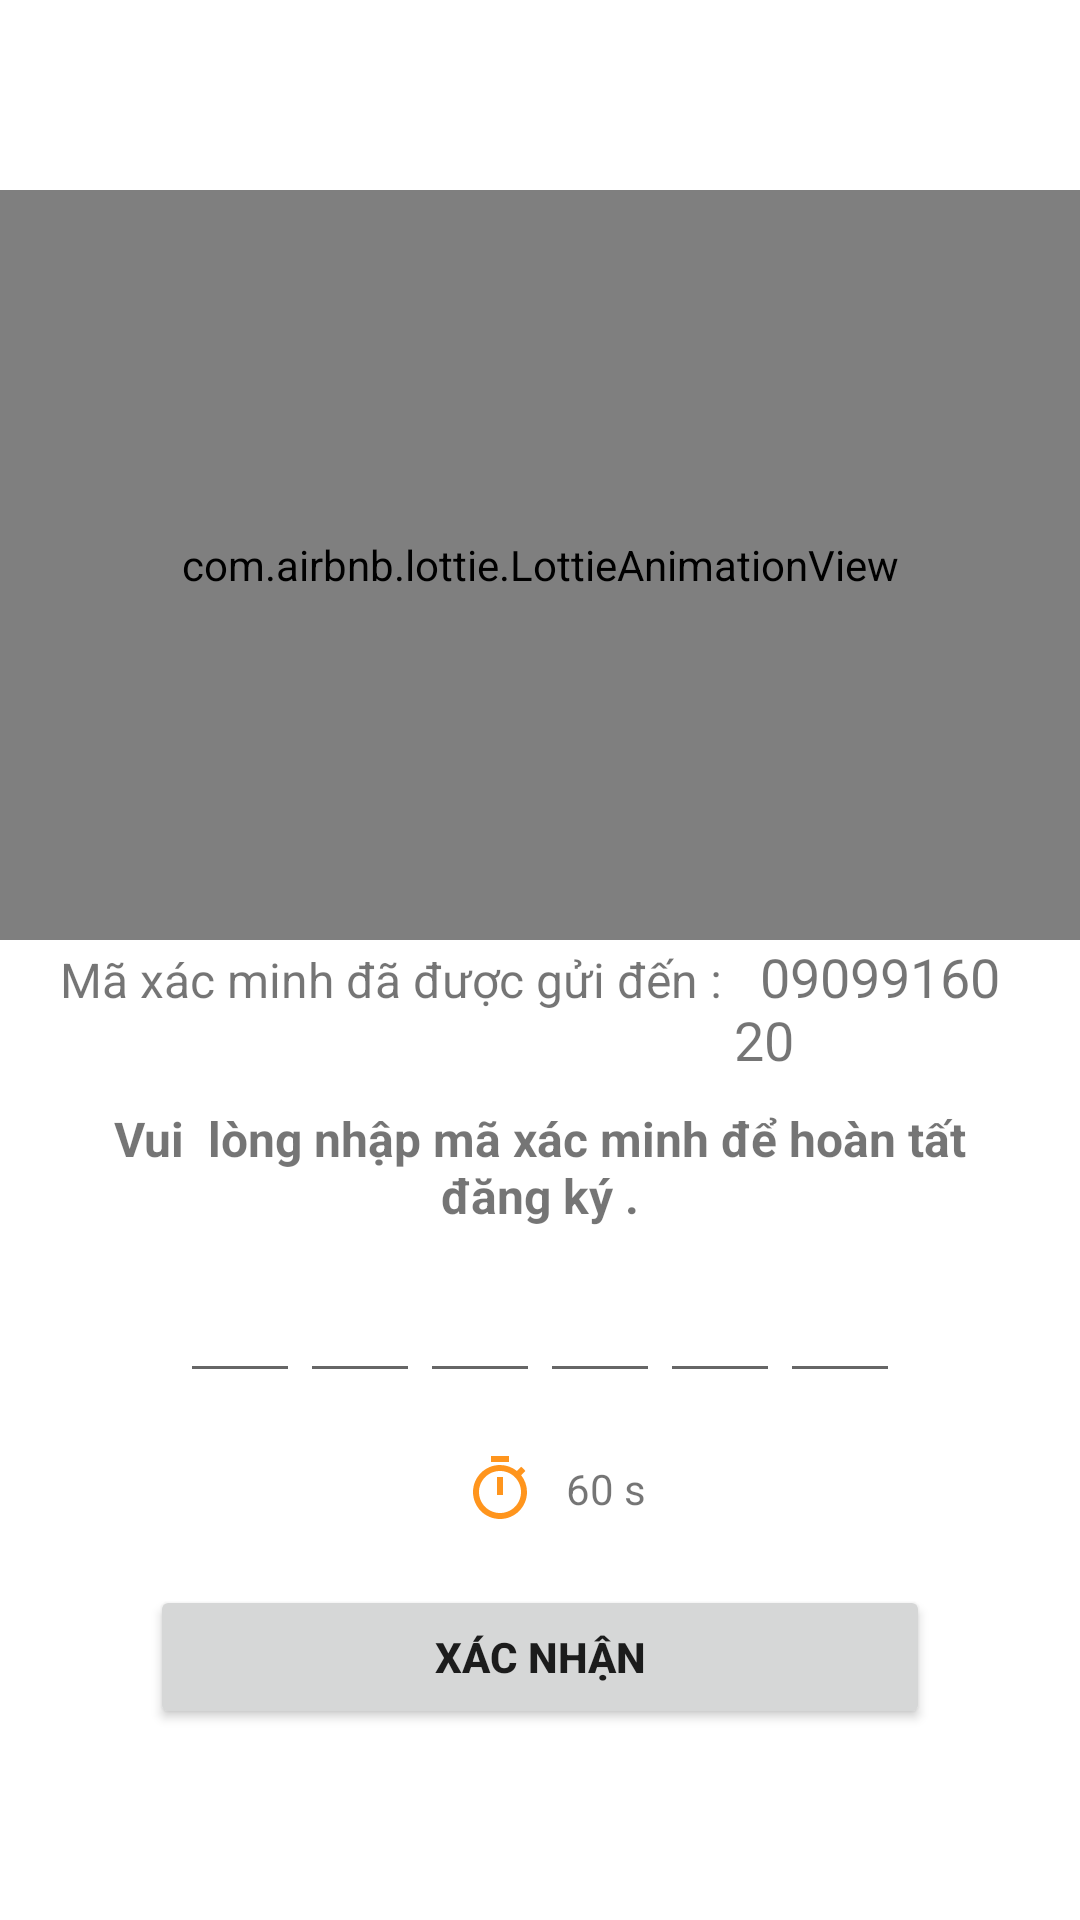

Where to tap for icons on this 1080w x 1920h app screen, as point (x, y):
timer: point (500, 1487)
